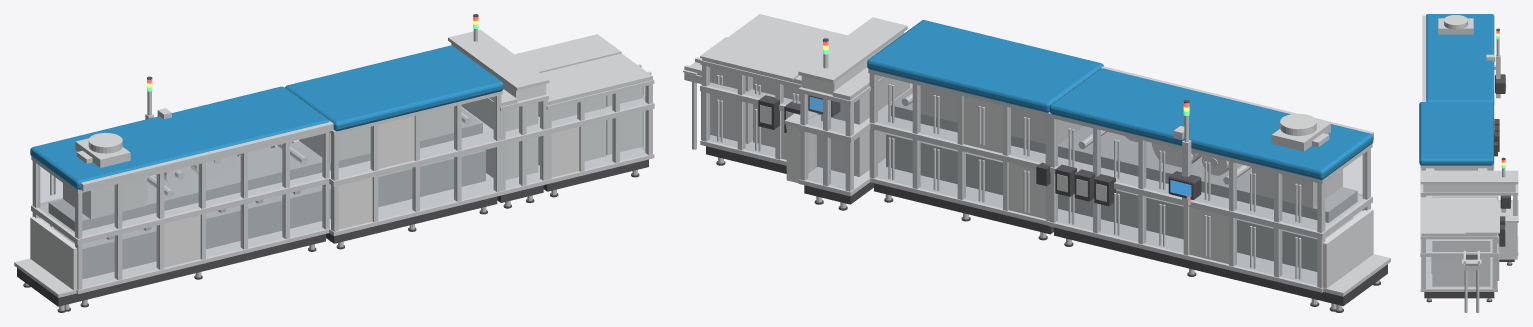
Rendered from BEC700_blockout_v3.glb.
The picture shows the model from 3 angles, left to right: view 1: azimuth 30°, elevation 25°; view 2: azimuth 150°, elevation 25°; view 3: azimuth 270°, elevation 25°; orthographic projection. The views are drawn at different scales.
Visible parts, largest first — view 1: bandeau_bleu, bandeau_bleu_02, chassis_bas, chassis_haut, traverse_A_02, toit_D, traverse_A, toit_principal, toit_C, traverse_B_02, bati_transfert, traverse_B (+69 smaller); view 2: bandeau_bleu, bandeau_bleu_02, chassis_bas, chassis_haut, traverse_A_02, traverse_A, toit_D, toit_C, bati_transfert, joue_entree, table_sortie, traverse_B (+72 smaller); view 3: bandeau_bleu, bandeau_bleu_02, pignon_D, groupe_sortie, toit_D, toit_C, table_sortie, bloc_transfert, traverse_D, magasin_avant, traverse_D_02, socle_D (+24 smaller).
Part boxes in pixels (x1,y1,x2,y2): bandeau_bleu: (30, 86, 329, 189); bandeau_bleu_02: (284, 45, 503, 131); chassis_bas: (53, 150, 485, 279); chassis_haut: (48, 108, 482, 231); traverse_A_02: (31, 145, 330, 244); toit_D: (540, 53, 652, 105); traverse_A: (76, 221, 330, 294); toit_principal: (80, 90, 334, 191); toit_C: (448, 29, 549, 90); traverse_B_02: (294, 128, 503, 186); bati_transfert: (461, 99, 538, 179); traverse_B: (321, 181, 502, 236); bandeau_bleu: (1049, 68, 1373, 179); bandeau_bleu_02: (867, 20, 1103, 112); chassis_bas: (886, 133, 1353, 271); chassis_haut: (891, 87, 1357, 222); traverse_A_02: (1050, 157, 1372, 239); traverse_A: (1048, 211, 1323, 292); toit_D: (702, 14, 847, 84); toit_C: (798, 17, 907, 83); bati_transfert: (817, 78, 909, 176); joue_entree: (1323, 209, 1373, 288); table_sortie: (700, 37, 814, 80); traverse_B: (870, 166, 1065, 225); bandeau_bleu: (1426, 14, 1494, 104); bandeau_bleu_02: (1419, 102, 1493, 165); pignon_D: (1426, 240, 1491, 287); groupe_sortie: (1432, 239, 1490, 286); toit_D: (1421, 197, 1497, 236); toit_C: (1420, 170, 1518, 184); table_sortie: (1465, 202, 1499, 233); bloc_transfert: (1423, 184, 1515, 192); traverse_D: (1420, 257, 1497, 291); magasin_avant: (1499, 223, 1517, 259); traverse_D_02: (1420, 216, 1498, 256); socle_D: (1424, 292, 1494, 298).
Size of the model in its own units: 10.27 by 2.69 by 2.01.
